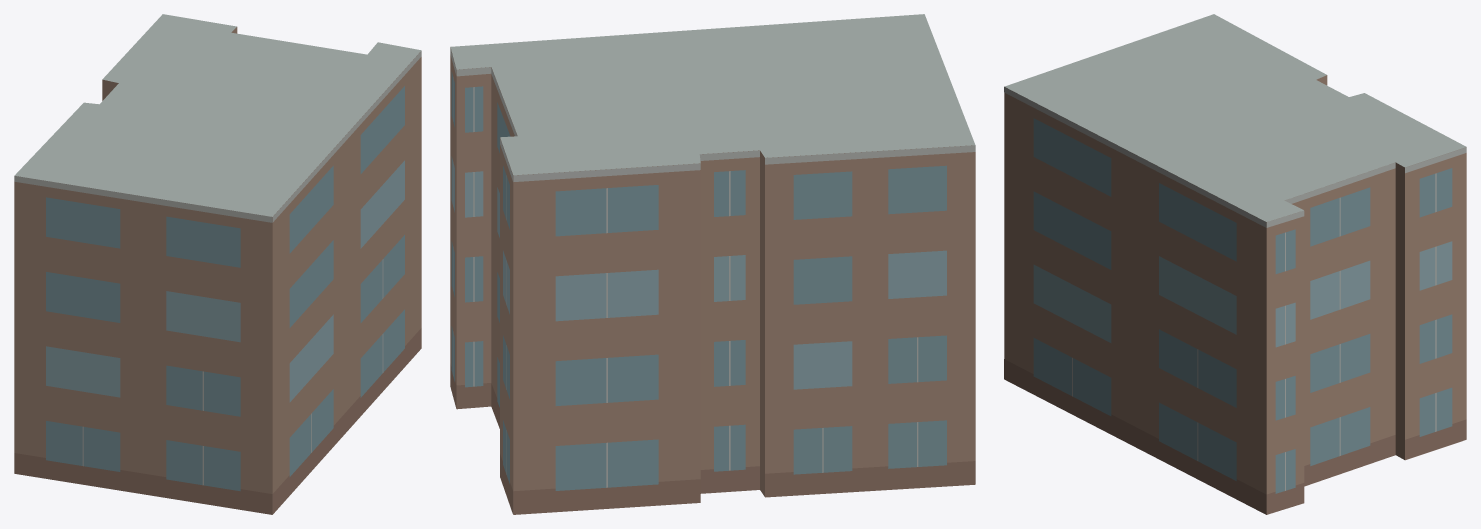
The model's file is survey-upis-32746039.glb.
3 views of the same model, side by side, from view 1: azimuth 30°, elevation 25°; view 2: azimuth 150°, elevation 25°; view 3: azimuth 270°, elevation 25° (orthographic). The views are drawn at different scales.
Parts seen in each view (by area): view 1: survey-upis-32746039.tmp; view 2: survey-upis-32746039.tmp; view 3: survey-upis-32746039.tmp.
Part boxes in pixels (<box>): survey-upis-32746039.tmp: <box>14,14,421,514</box>; survey-upis-32746039.tmp: <box>450,14,975,514</box>; survey-upis-32746039.tmp: <box>1004,14,1466,514</box>.
Size of the model in its own units: 18.61 by 12.2 by 17.48.
